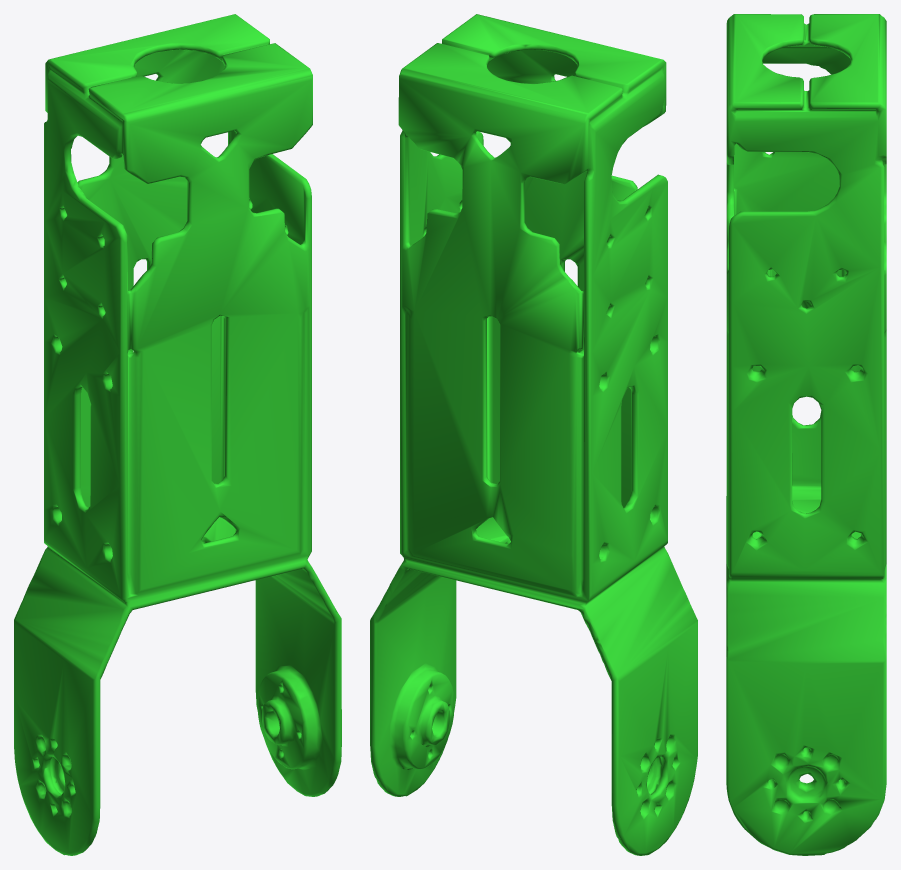
The model's file is LowerArm.fbx.
The picture shows the model from 3 angles, left to right: view 1: azimuth 30°, elevation 25°; view 2: azimuth 150°, elevation 25°; view 3: azimuth 270°, elevation 25°; orthographic projection. The views are drawn at different scales.
Visible parts, largest first — view 1: link2; view 2: link2; view 3: link2.
Boxes of the visible parts, bbox=[...] form: link2: bbox=[14, 14, 341, 855]; link2: bbox=[370, 14, 697, 855]; link2: bbox=[726, 14, 886, 855].
Size of the model in its own units: 24.9 by 72.48 by 14.25.
